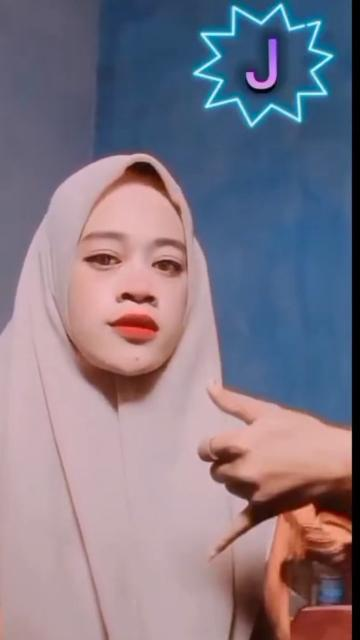J: (188, 383, 338, 574)
